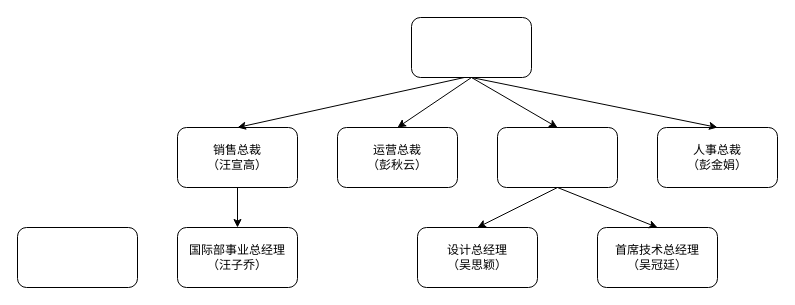
Image size: 795x305. Some labels were removed from this diagram. The box of each missing label's shape, as (x1, y1, x2, y2) in pixels:
创新业务总经理 （彭浩峻）: (16, 226, 138, 288)
完梦集团: (410, 16, 532, 78)
技术总裁 （吴荣华）: (496, 126, 618, 188)
